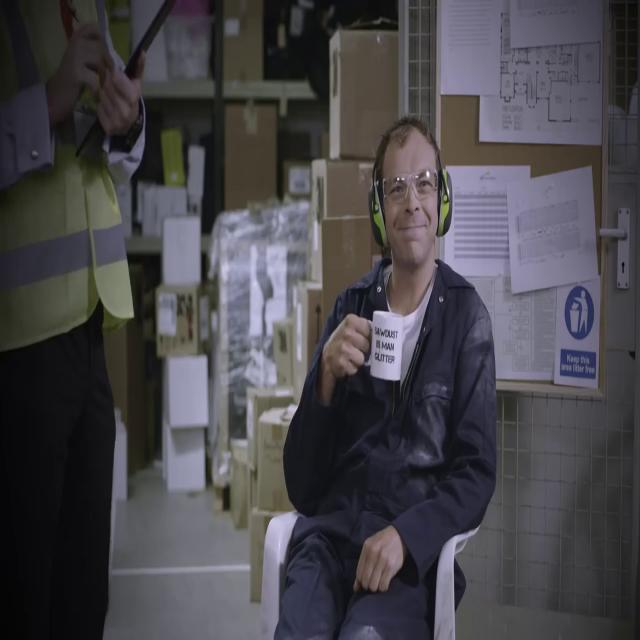earmuff: (367, 185, 386, 243), (442, 173, 457, 232)
glasses: (390, 166, 430, 201)
